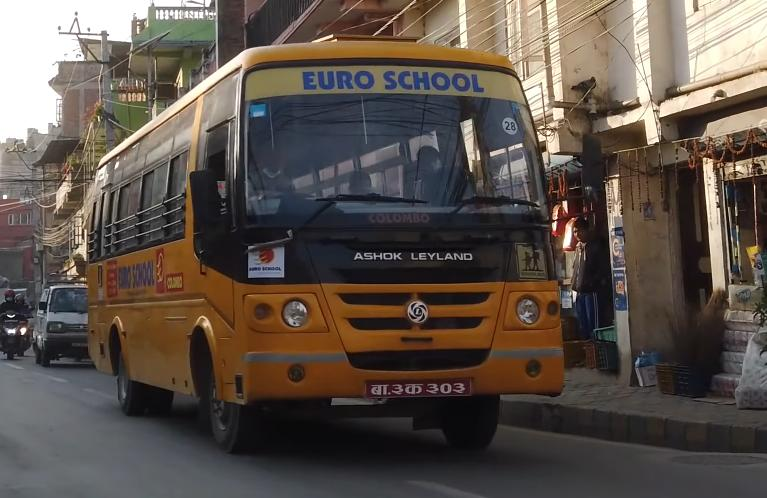school_bus: (80, 34, 571, 469)
scooter: (0, 309, 21, 363)
van: (34, 272, 93, 366)
